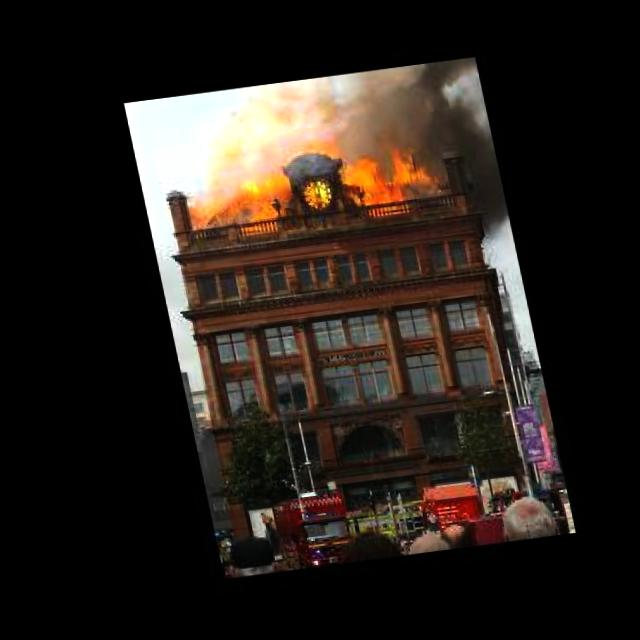Fire: (179, 130, 443, 244)
Smoke: (198, 65, 427, 158), (408, 58, 505, 246)
